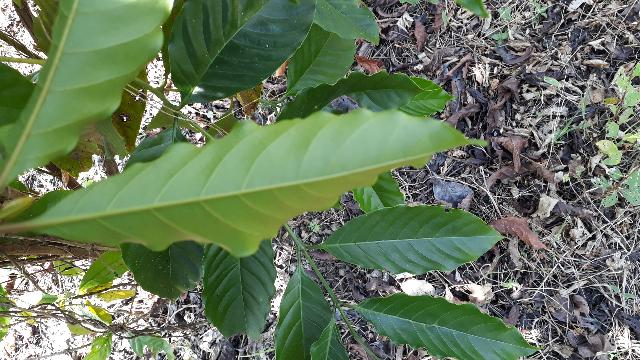healthy: (35, 107, 483, 256)
